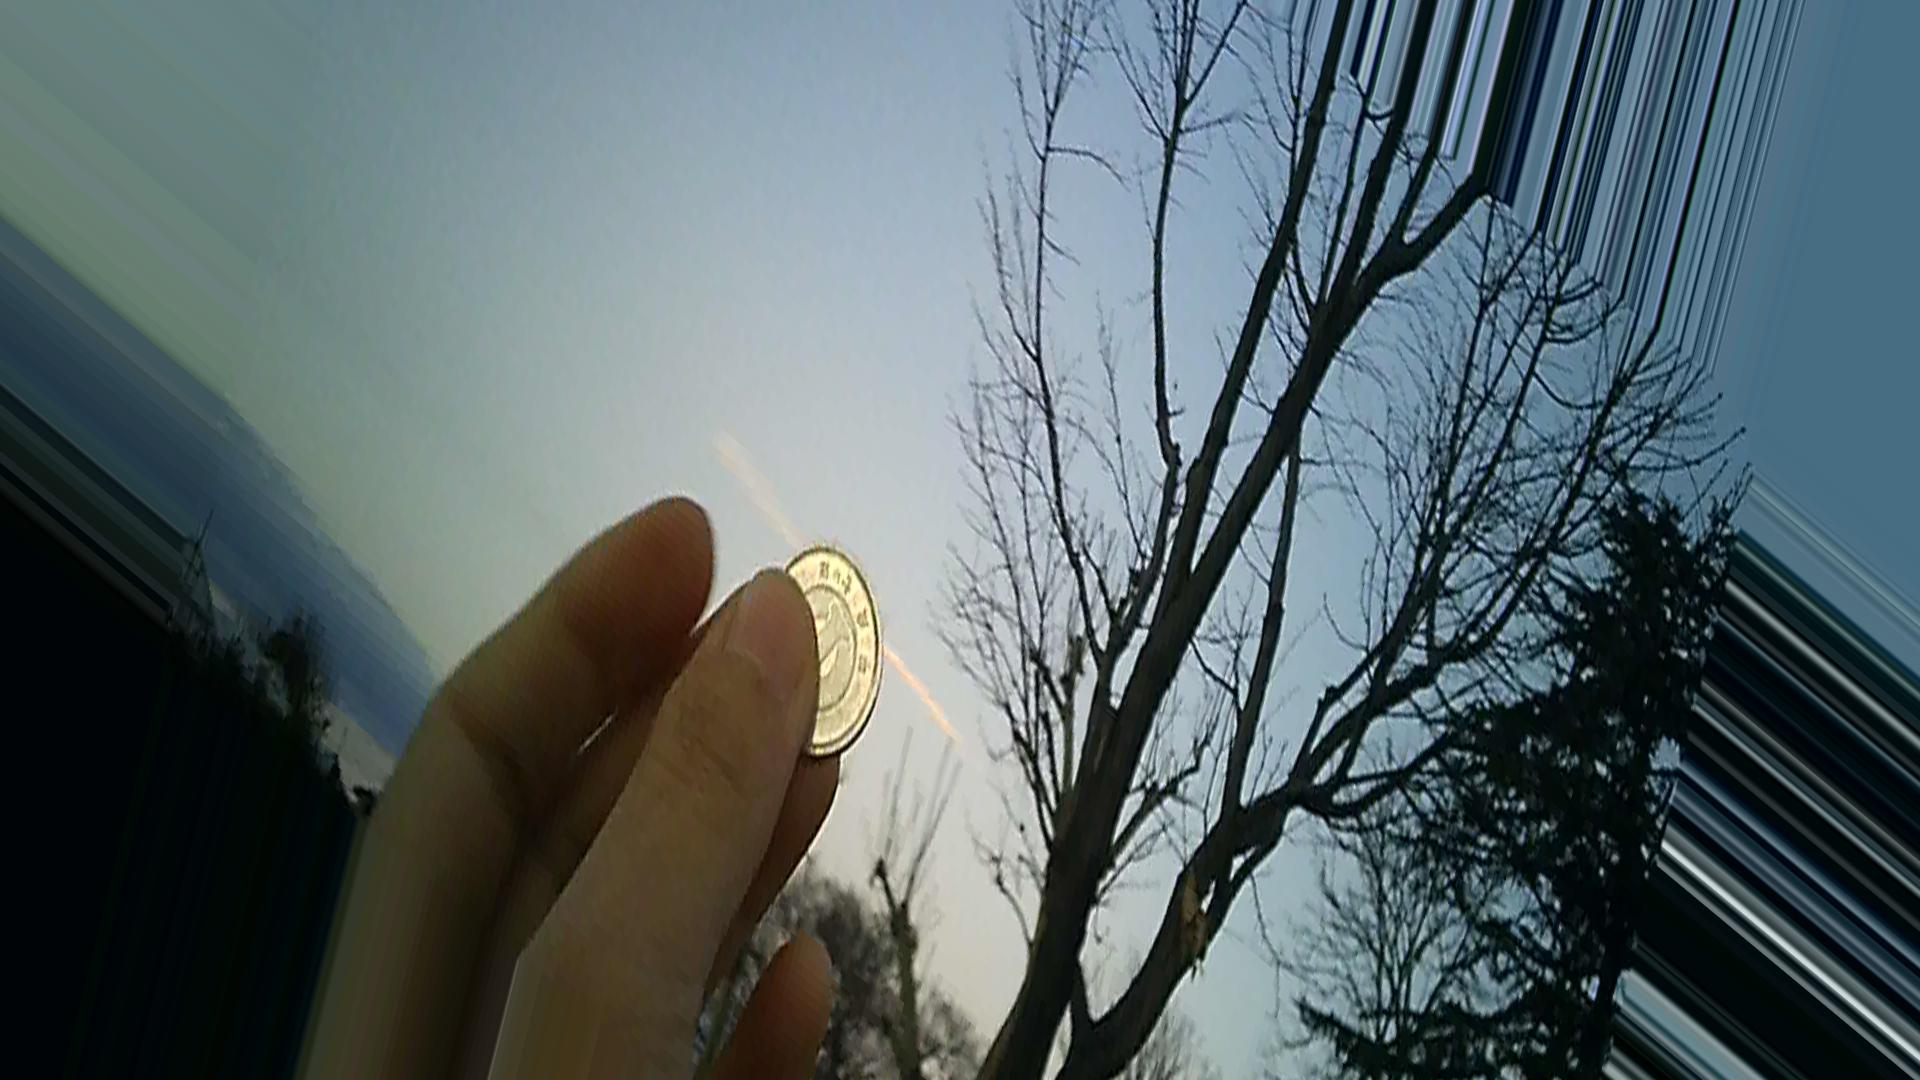1 Yen: (746, 529, 897, 771)
